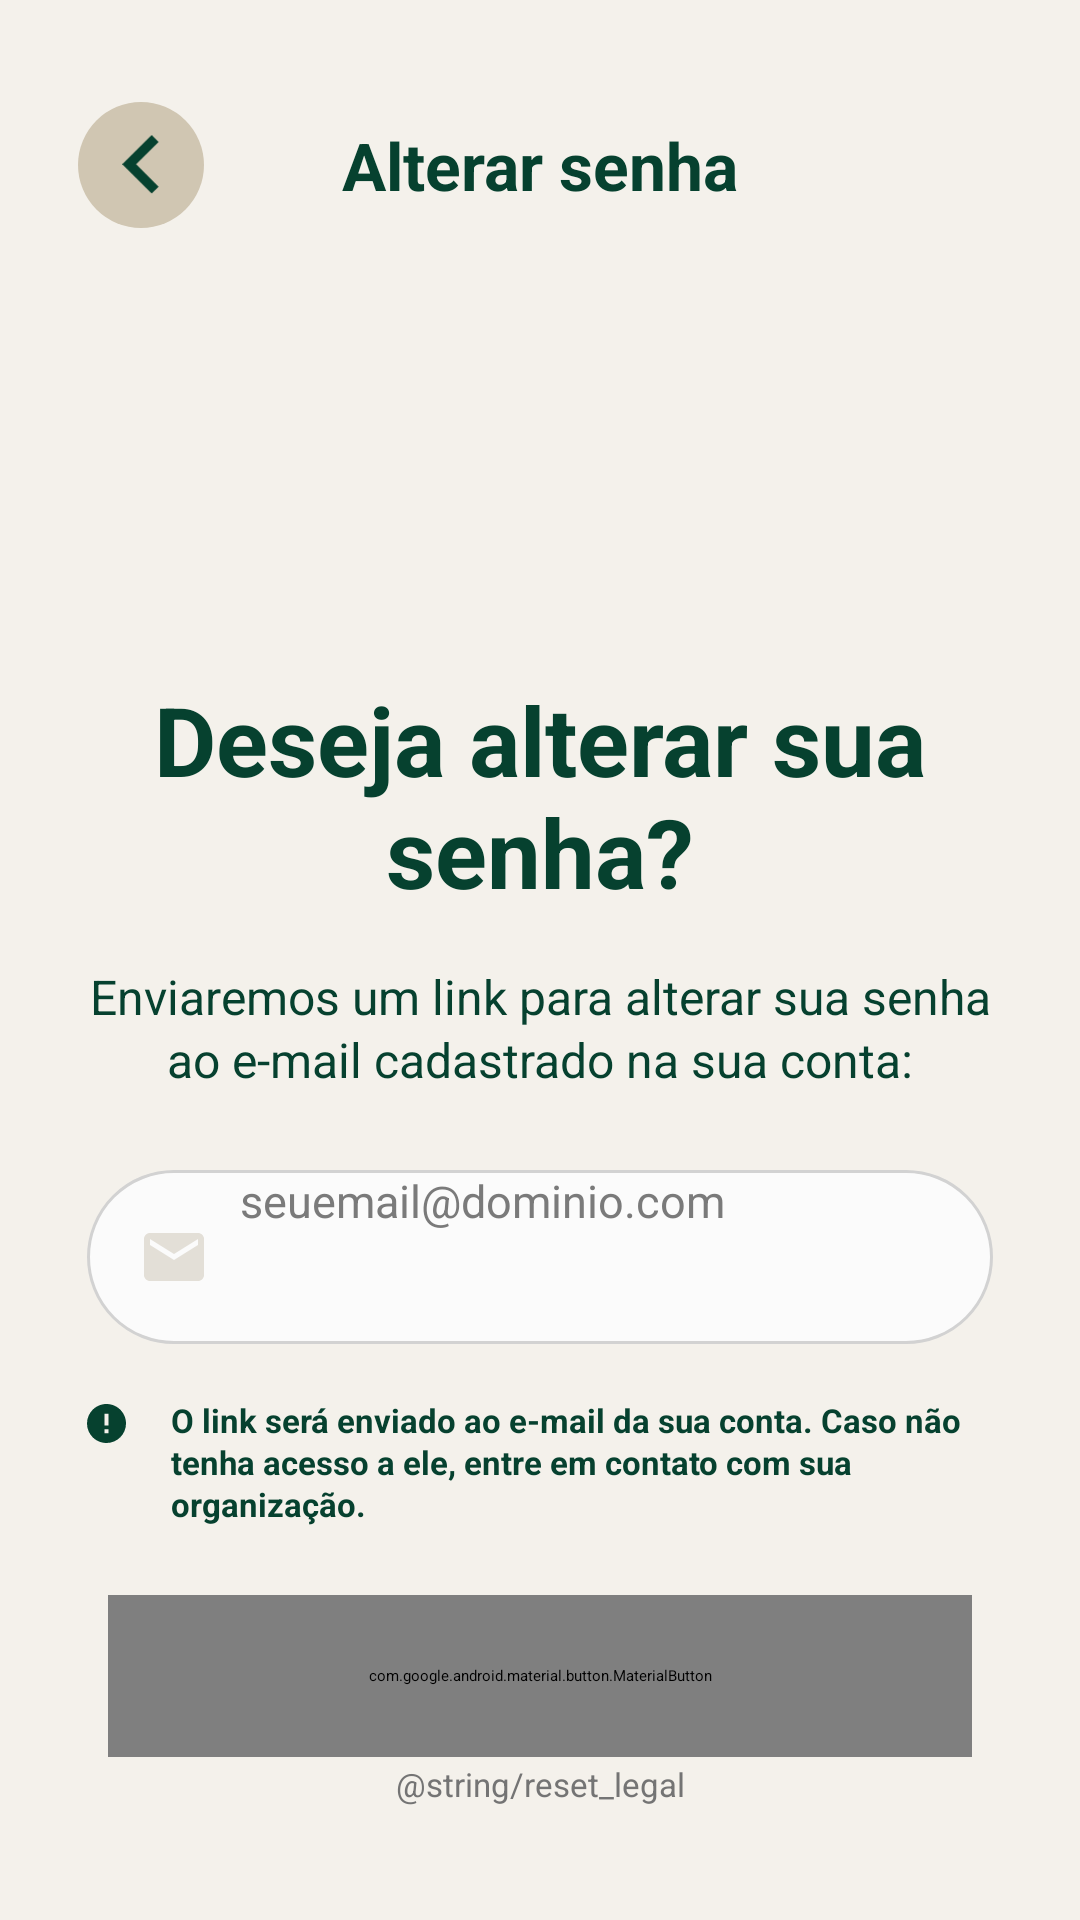

Where icons sit on this 1080x1920 app screen, as (x1, y1, x2, y2):
Voltar: (78, 102, 204, 228)
warning: (87, 1404, 126, 1443)
